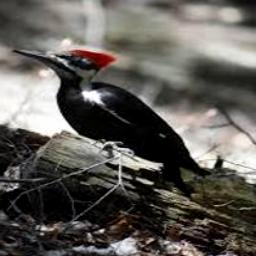Woodpecker: (13, 46, 210, 193)
